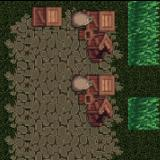Hide: (23, 0, 71, 34)
Obstacle: (64, 64, 128, 130), (64, 0, 128, 64)
Slow: (128, 0, 160, 66), (127, 97, 160, 130)
